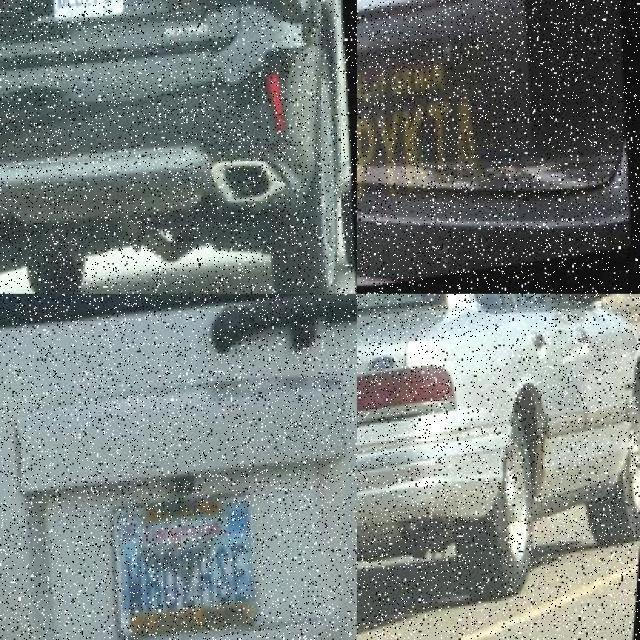license-plate: (96, 496, 277, 640)
